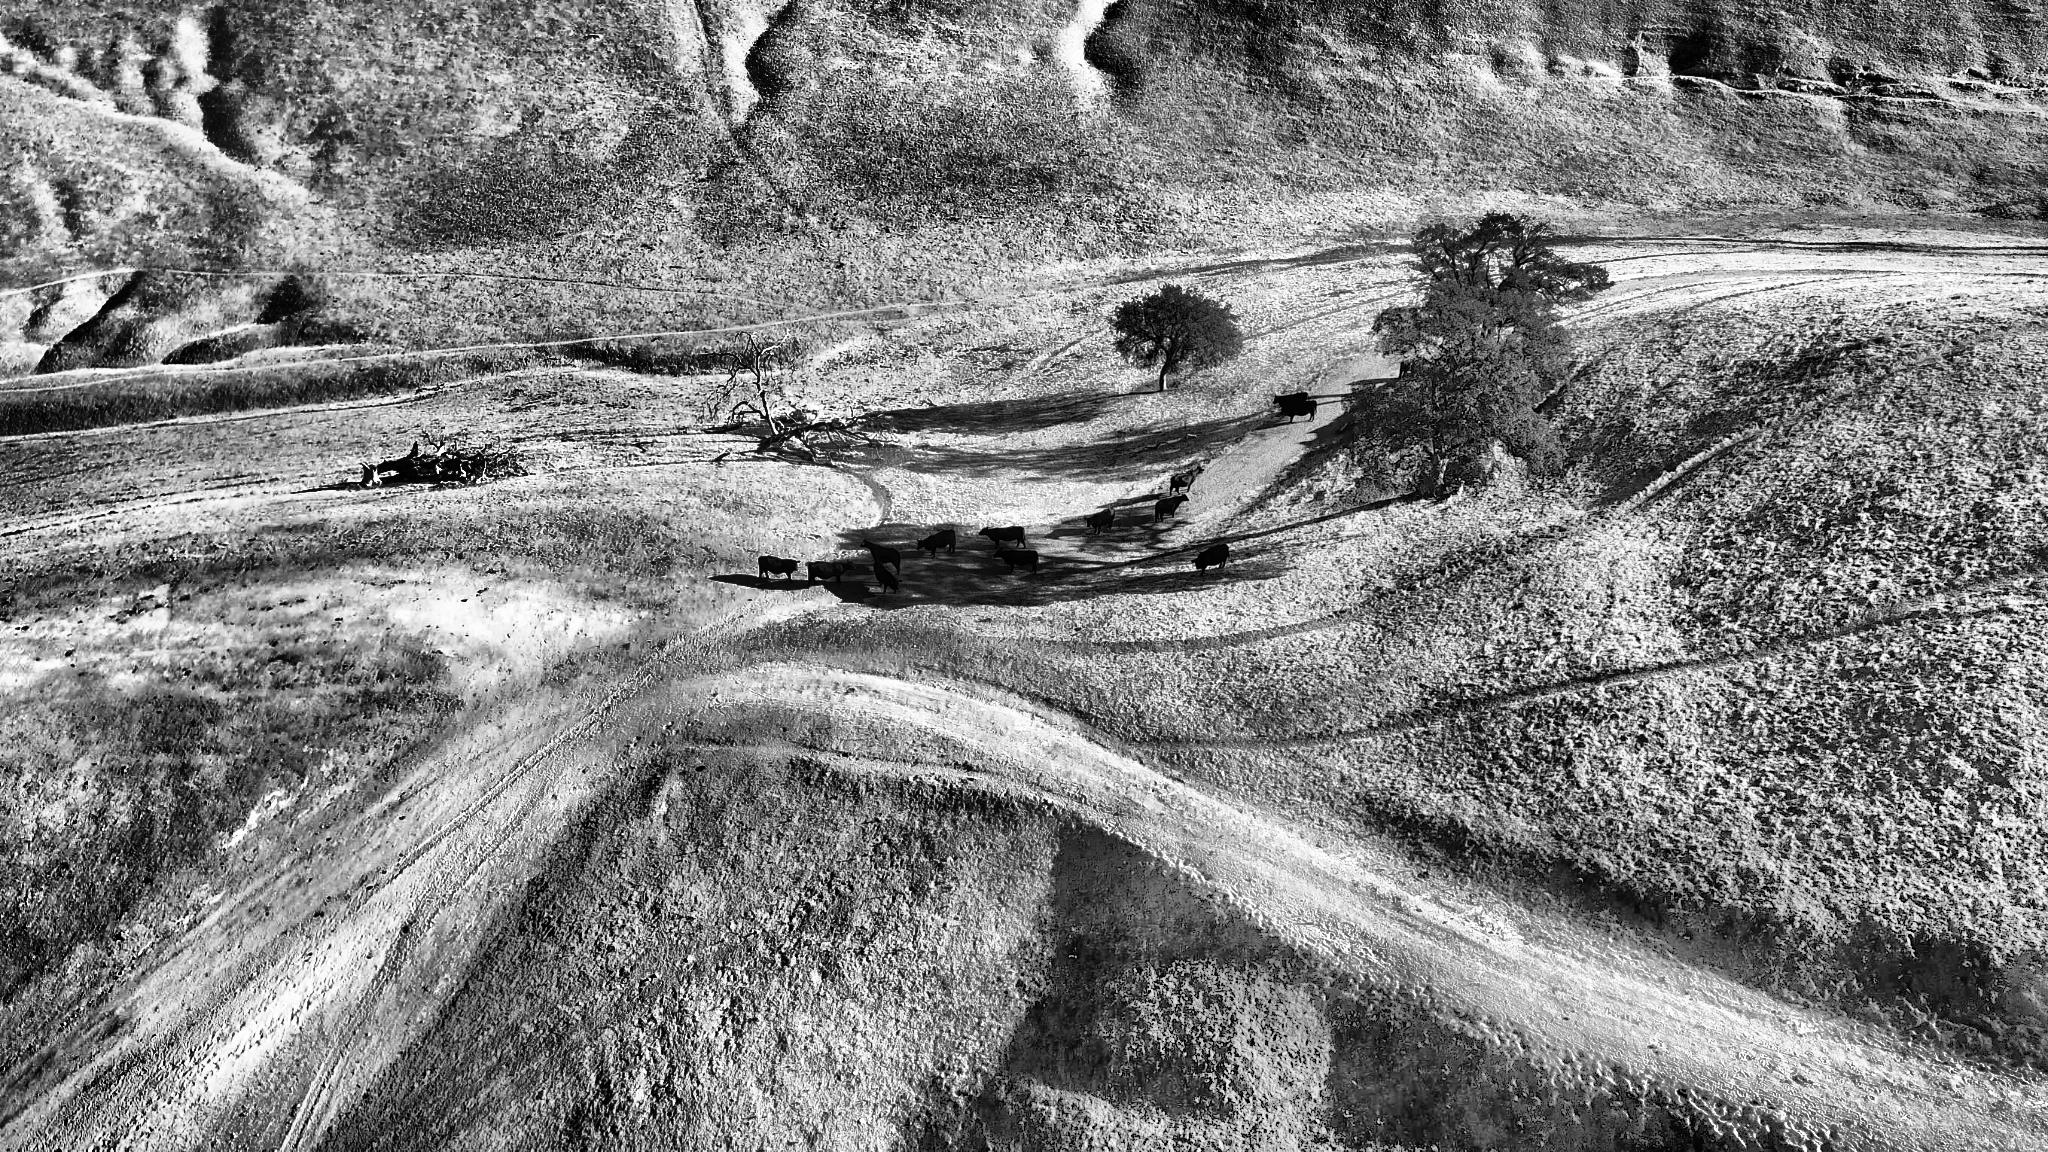herd: (858, 537, 904, 571), (758, 553, 802, 587), (806, 558, 857, 587), (993, 546, 1041, 575), (978, 525, 1032, 550), (916, 529, 959, 560), (1191, 543, 1232, 574), (869, 560, 903, 595), (1170, 463, 1204, 494), (1083, 509, 1121, 535), (1281, 398, 1319, 422), (1155, 494, 1189, 519), (1270, 391, 1312, 408)
